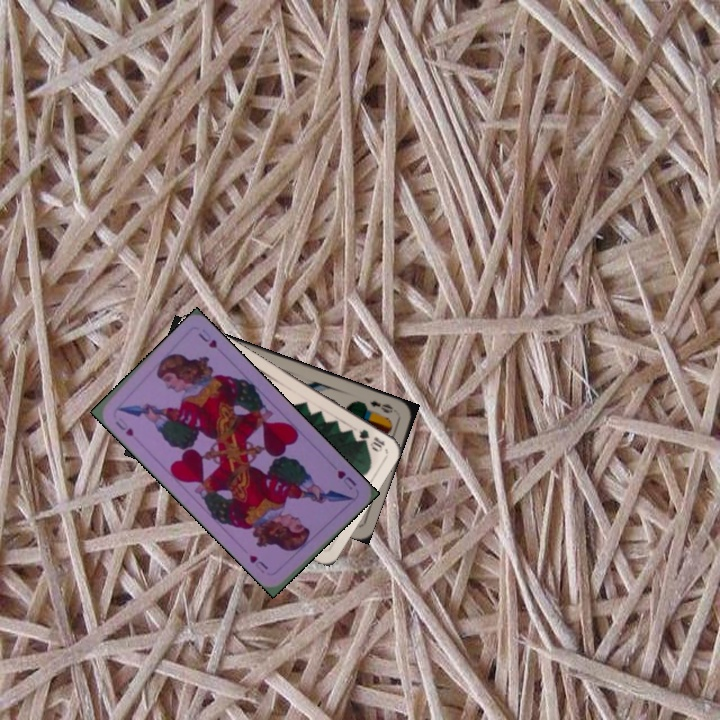EO: (366, 396, 396, 416)
G10: (355, 425, 387, 453)
HU: (333, 466, 359, 493), (111, 413, 136, 439)
